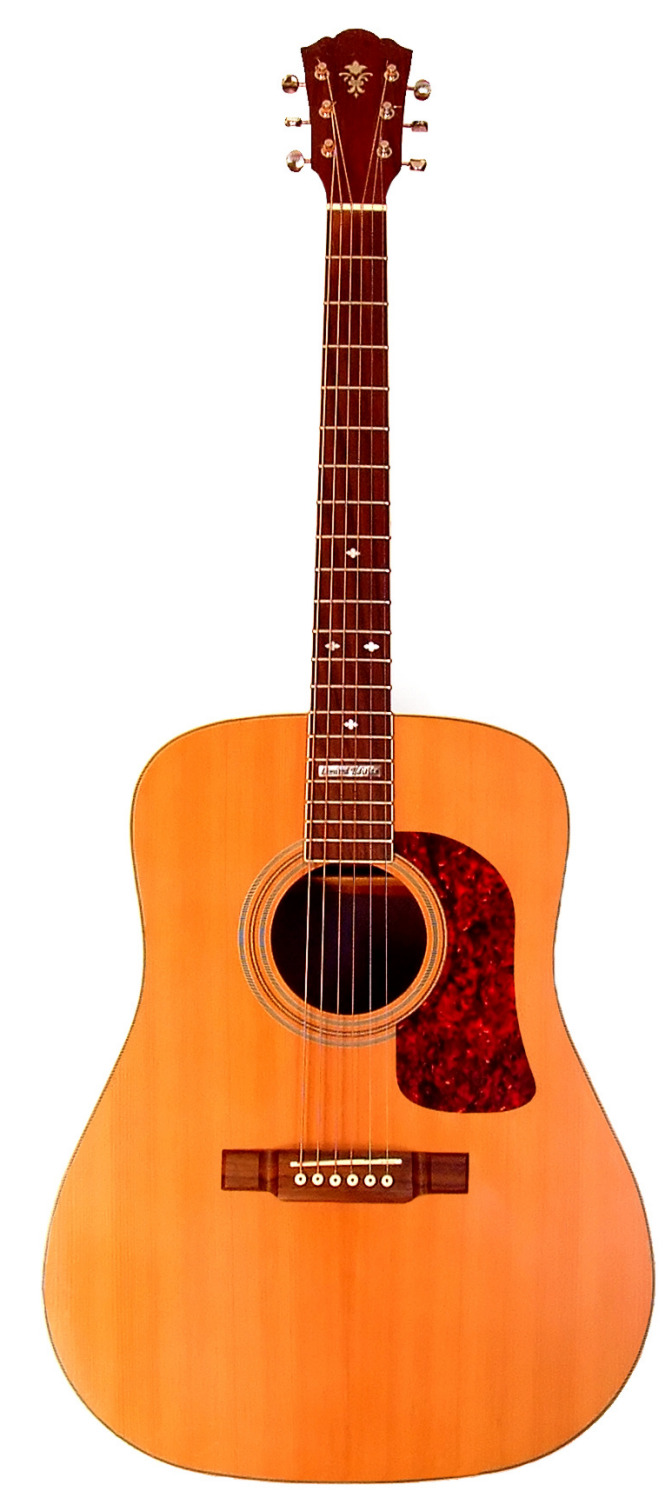guitar: (44, 26, 654, 1484)
